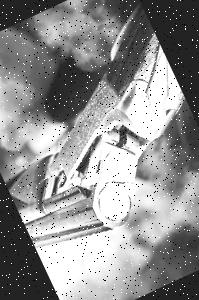shotgun: (3, 1, 190, 253)
